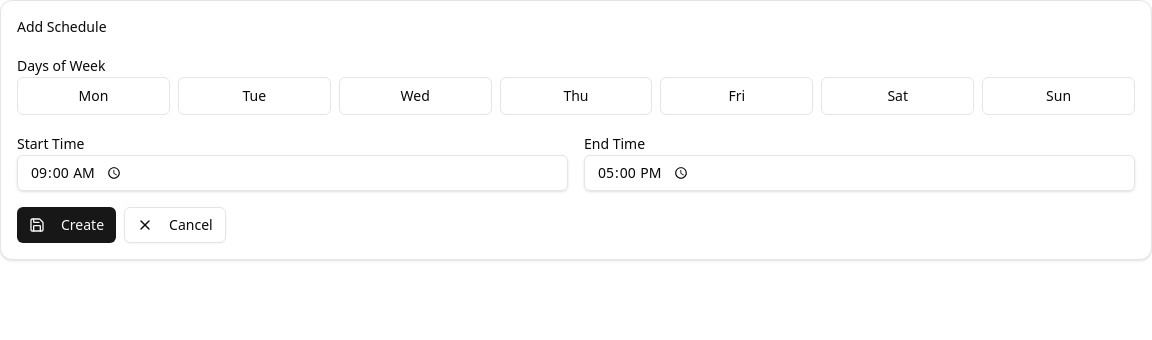
Test case: ScheduleForm › should show error when no days selected
// Try to submit without selecting days
Click the button "Create": (67, 225) [17,207,116,243]
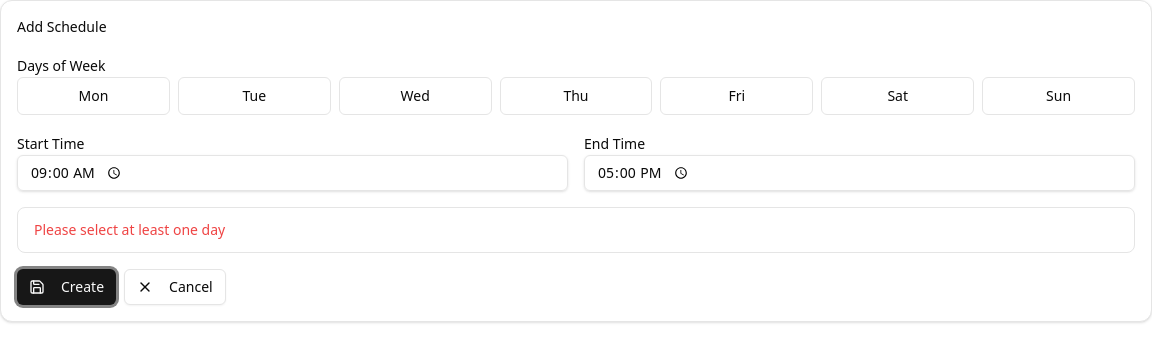
Result: the text "Please select at least one day" is shown at [34,220,225,239]
